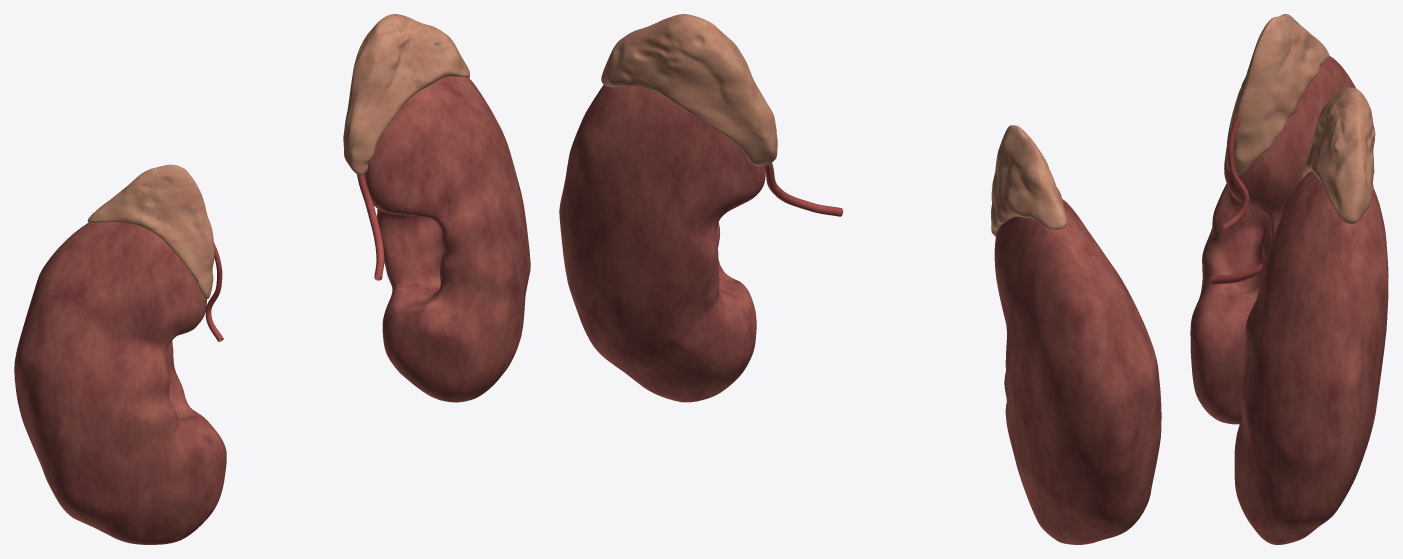
The model's file is adrenals.glb.
3 renders of one model, left to right at view 1: azimuth 30°, elevation 25°; view 2: azimuth 150°, elevation 25°; view 3: azimuth 270°, elevation 25°, orthographic. The views are drawn at different scales.
Visible parts, largest first — view 1: Kidney.r.001, Kidney.l.001, Suprarenal gland.l.001, Suprarenal gland.r.001, Inferior suprarenal artery.l.001, Inferior suprarenal artery.r.001; view 2: Kidney.l.001, Kidney.r.001, Suprarenal gland.l.001, Suprarenal gland.r.001, Inferior suprarenal artery.l.001; view 3: Kidney.l.001, Kidney.r.001, Suprarenal gland.r.001, Suprarenal gland.l.001, Inferior suprarenal artery.r.001, Inferior suprarenal artery.l.001.
Part boxes in pixels (bbox=[...]): Kidney.r.001: bbox=[14, 222, 226, 544]; Kidney.l.001: bbox=[364, 76, 530, 402]; Suprarenal gland.l.001: bbox=[343, 14, 469, 175]; Suprarenal gland.r.001: bbox=[87, 164, 214, 299]; Inferior suprarenal artery.l.001: bbox=[357, 174, 384, 280]; Inferior suprarenal artery.r.001: bbox=[205, 242, 223, 341]; Kidney.l.001: bbox=[559, 85, 765, 402]; Kidney.r.001: bbox=[994, 199, 1161, 544]; Suprarenal gland.l.001: bbox=[601, 14, 777, 166]; Suprarenal gland.r.001: bbox=[991, 125, 1066, 236]; Inferior suprarenal artery.l.001: bbox=[764, 162, 843, 216]; Kidney.l.001: bbox=[1234, 171, 1388, 544]; Kidney.r.001: bbox=[1190, 56, 1355, 424]; Suprarenal gland.r.001: bbox=[1226, 14, 1329, 174]; Suprarenal gland.l.001: bbox=[1301, 87, 1375, 223]; Inferior suprarenal artery.r.001: bbox=[1223, 118, 1249, 230]; Inferior suprarenal artery.l.001: bbox=[1211, 263, 1263, 284].
Bounding box in the file's own units: 0.1778 × 0.1413 × 0.052.
4 materials, 4 textured.
